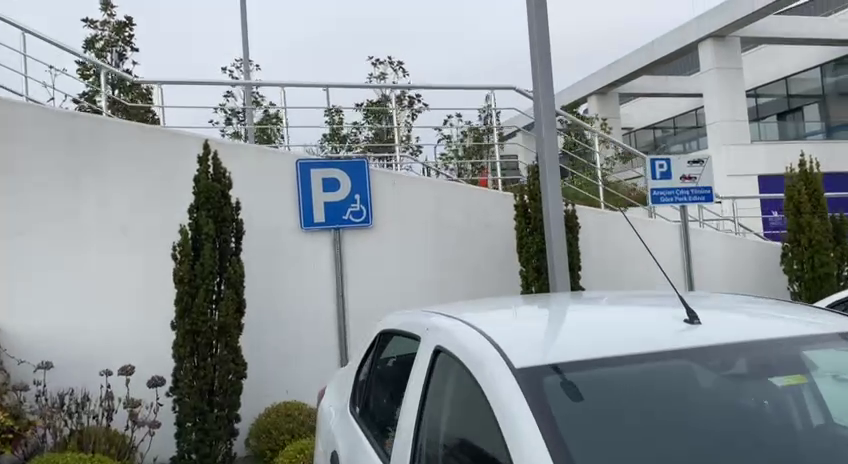parking: (294, 157, 375, 231), (648, 156, 673, 181)
